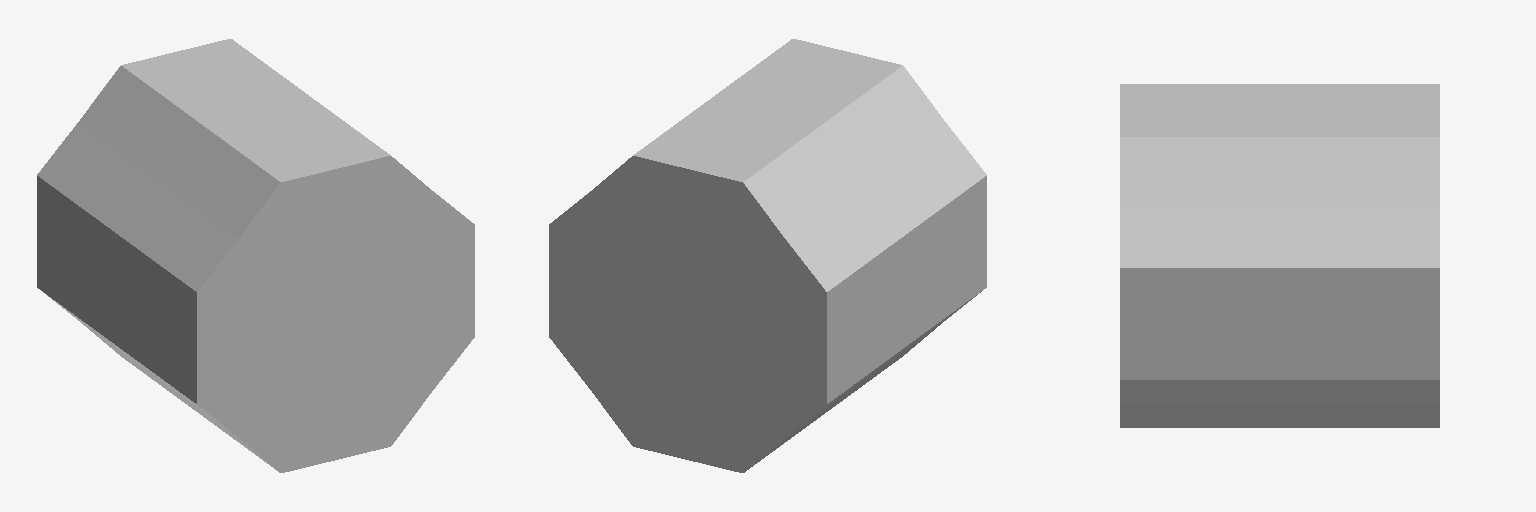
File: log_pile_1.obj
The picture shows the model from 3 angles: view 1: azimuth 30°, elevation 25°; view 2: azimuth 150°, elevation 25°; view 3: azimuth 270°, elevation 25°; orthographic projection.
Visible parts, largest first — view 1: log; view 2: log; view 3: log.
Part boxes in pixels (bbox=[...]): log: bbox=[37, 39, 474, 472]; log: bbox=[549, 39, 986, 472]; log: bbox=[1120, 84, 1439, 427].
Bounding box in the file's own units: 0.5015 × 0.5015 × 0.5.